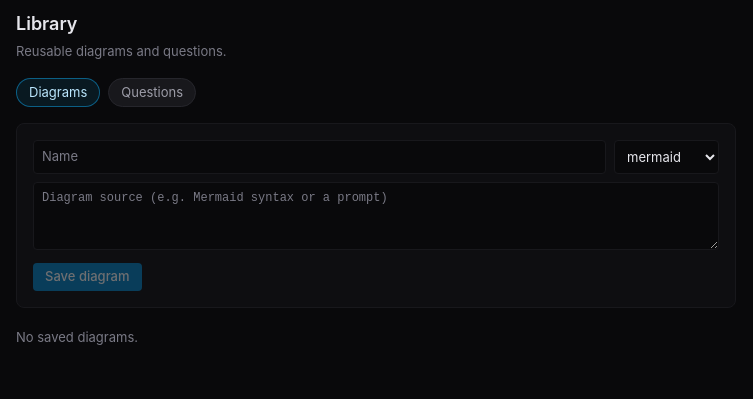
Test: shows the empty state then a created diagram
This screenshot has width=753, height=399.
Expected: the text "No saved diagrams." is shown, [16, 328, 138, 344]
Type "Flow" into the field with placeholder "Name" at (320, 157), box [33, 140, 606, 174]
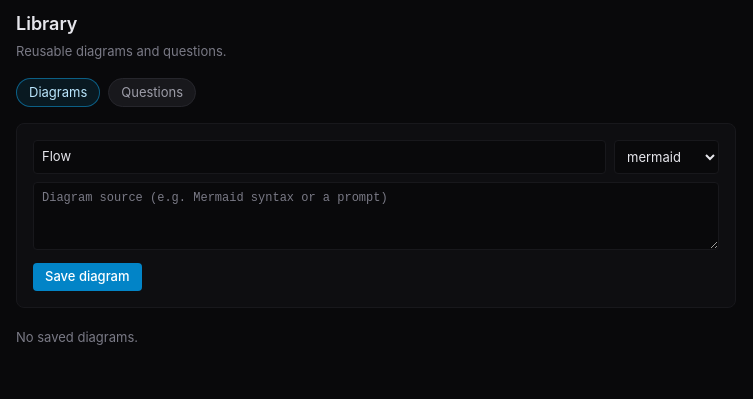
Click the button "Save diagram" at (87, 277), box [33, 263, 142, 290]
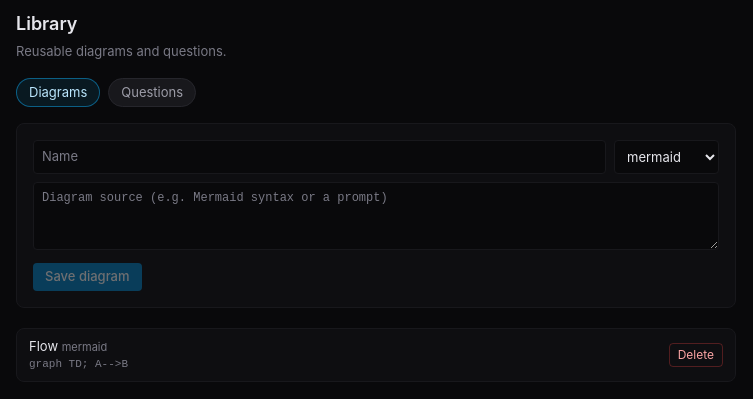
Expected: the text "Flow mermaid" is shown, [29, 338, 107, 354]
